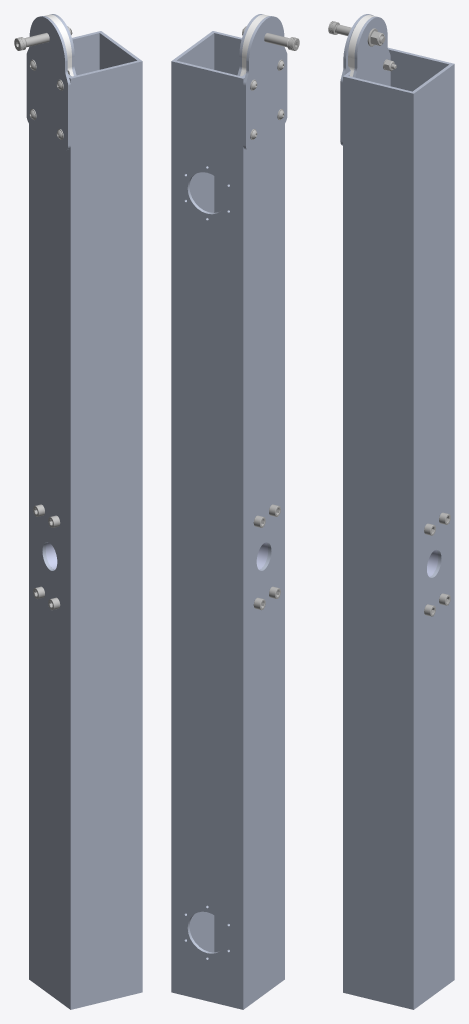
Rendered from Left Drivetrain Integration.glb.
The picture shows the model from 3 angles, left to right: view 1: azimuth 30°, elevation 25°; view 2: azimuth 150°, elevation 25°; view 3: azimuth 330°, elevation 25°; orthographic projection.
Parts seen in each view (by area): view 1: Left Drivetrain Integration; view 2: Left Drivetrain Integration; view 3: Left Drivetrain Integration.
Part boxes in pixels (left/top/right/bottom): Left Drivetrain Integration: left=14, top=14, right=142, bottom=1009; Left Drivetrain Integration: left=171, top=14, right=299, bottom=1009; Left Drivetrain Integration: left=328, top=14, right=454, bottom=1009.
Size of the model in its own units: 0.1078 by 0.9055 by 0.0699.
